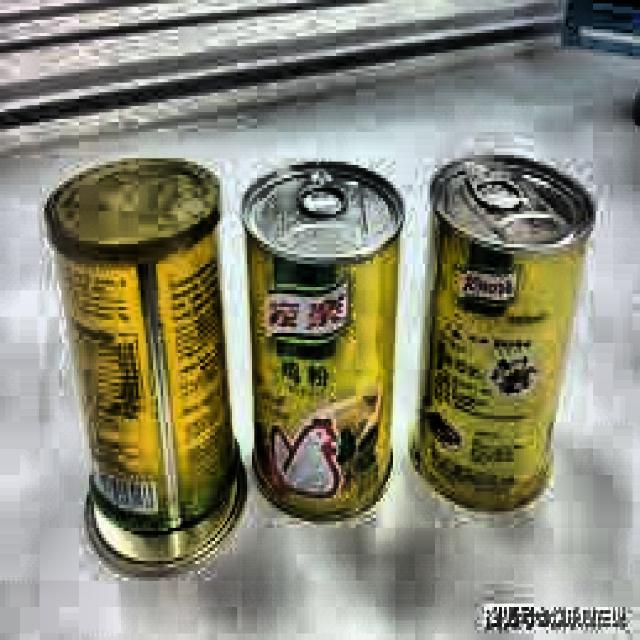can: (41, 142, 258, 576), (404, 132, 601, 527), (236, 150, 404, 524)
